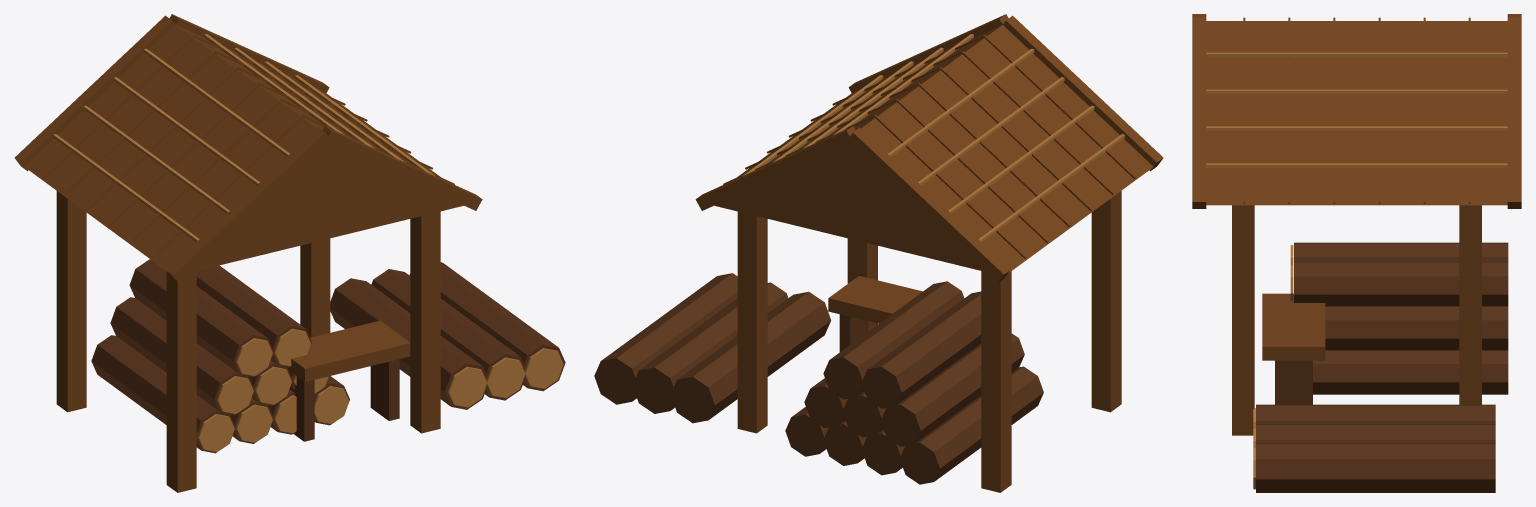
Rendered from lumberyard.glb.
3 renders of one model, left to right at view 1: azimuth 30°, elevation 25°; view 2: azimuth 150°, elevation 25°; view 3: azimuth 270°, elevation 25°, orthographic. The views are drawn at different scales.
Visible parts, largest first — view 1: Tile seam.009, Log.003, Cut end.002; view 2: Tile seam.009, Log.003, Cut end.002; view 3: Tile seam.009, Log.003, Cut end.002.
Boxes of the visible parts, x1=… form: Tile seam.009: x1=14, y1=14, x2=482, y2=492; Log.003: x1=91, y1=259, x2=565, y2=453; Cut end.002: x1=53, y1=34, x2=563, y2=451; Tile seam.009: x1=695, y1=14, x2=1163, y2=492; Log.003: x1=594, y1=273, x2=1043, y2=484; Cut end.002: x1=743, y1=34, x2=1124, y2=242; Tile seam.009: x1=1192, y1=14, x2=1521, y2=435; Log.003: x1=1256, y1=242, x2=1508, y2=492; Cut end.002: x1=1206, y1=52, x2=1507, y2=489.
Bounding box in the file's own units: 3.99 × 3.1 × 2.61.
